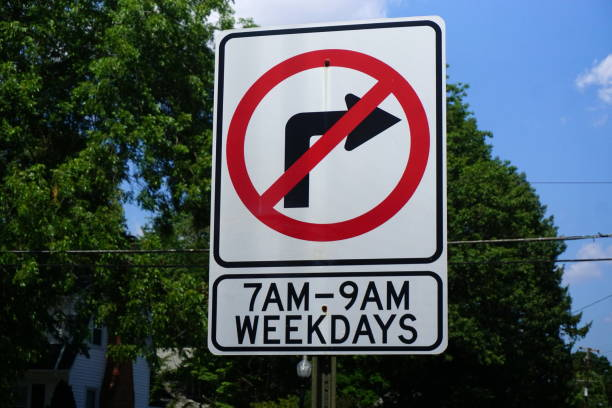saga_donulmez: (223, 50, 436, 239)
